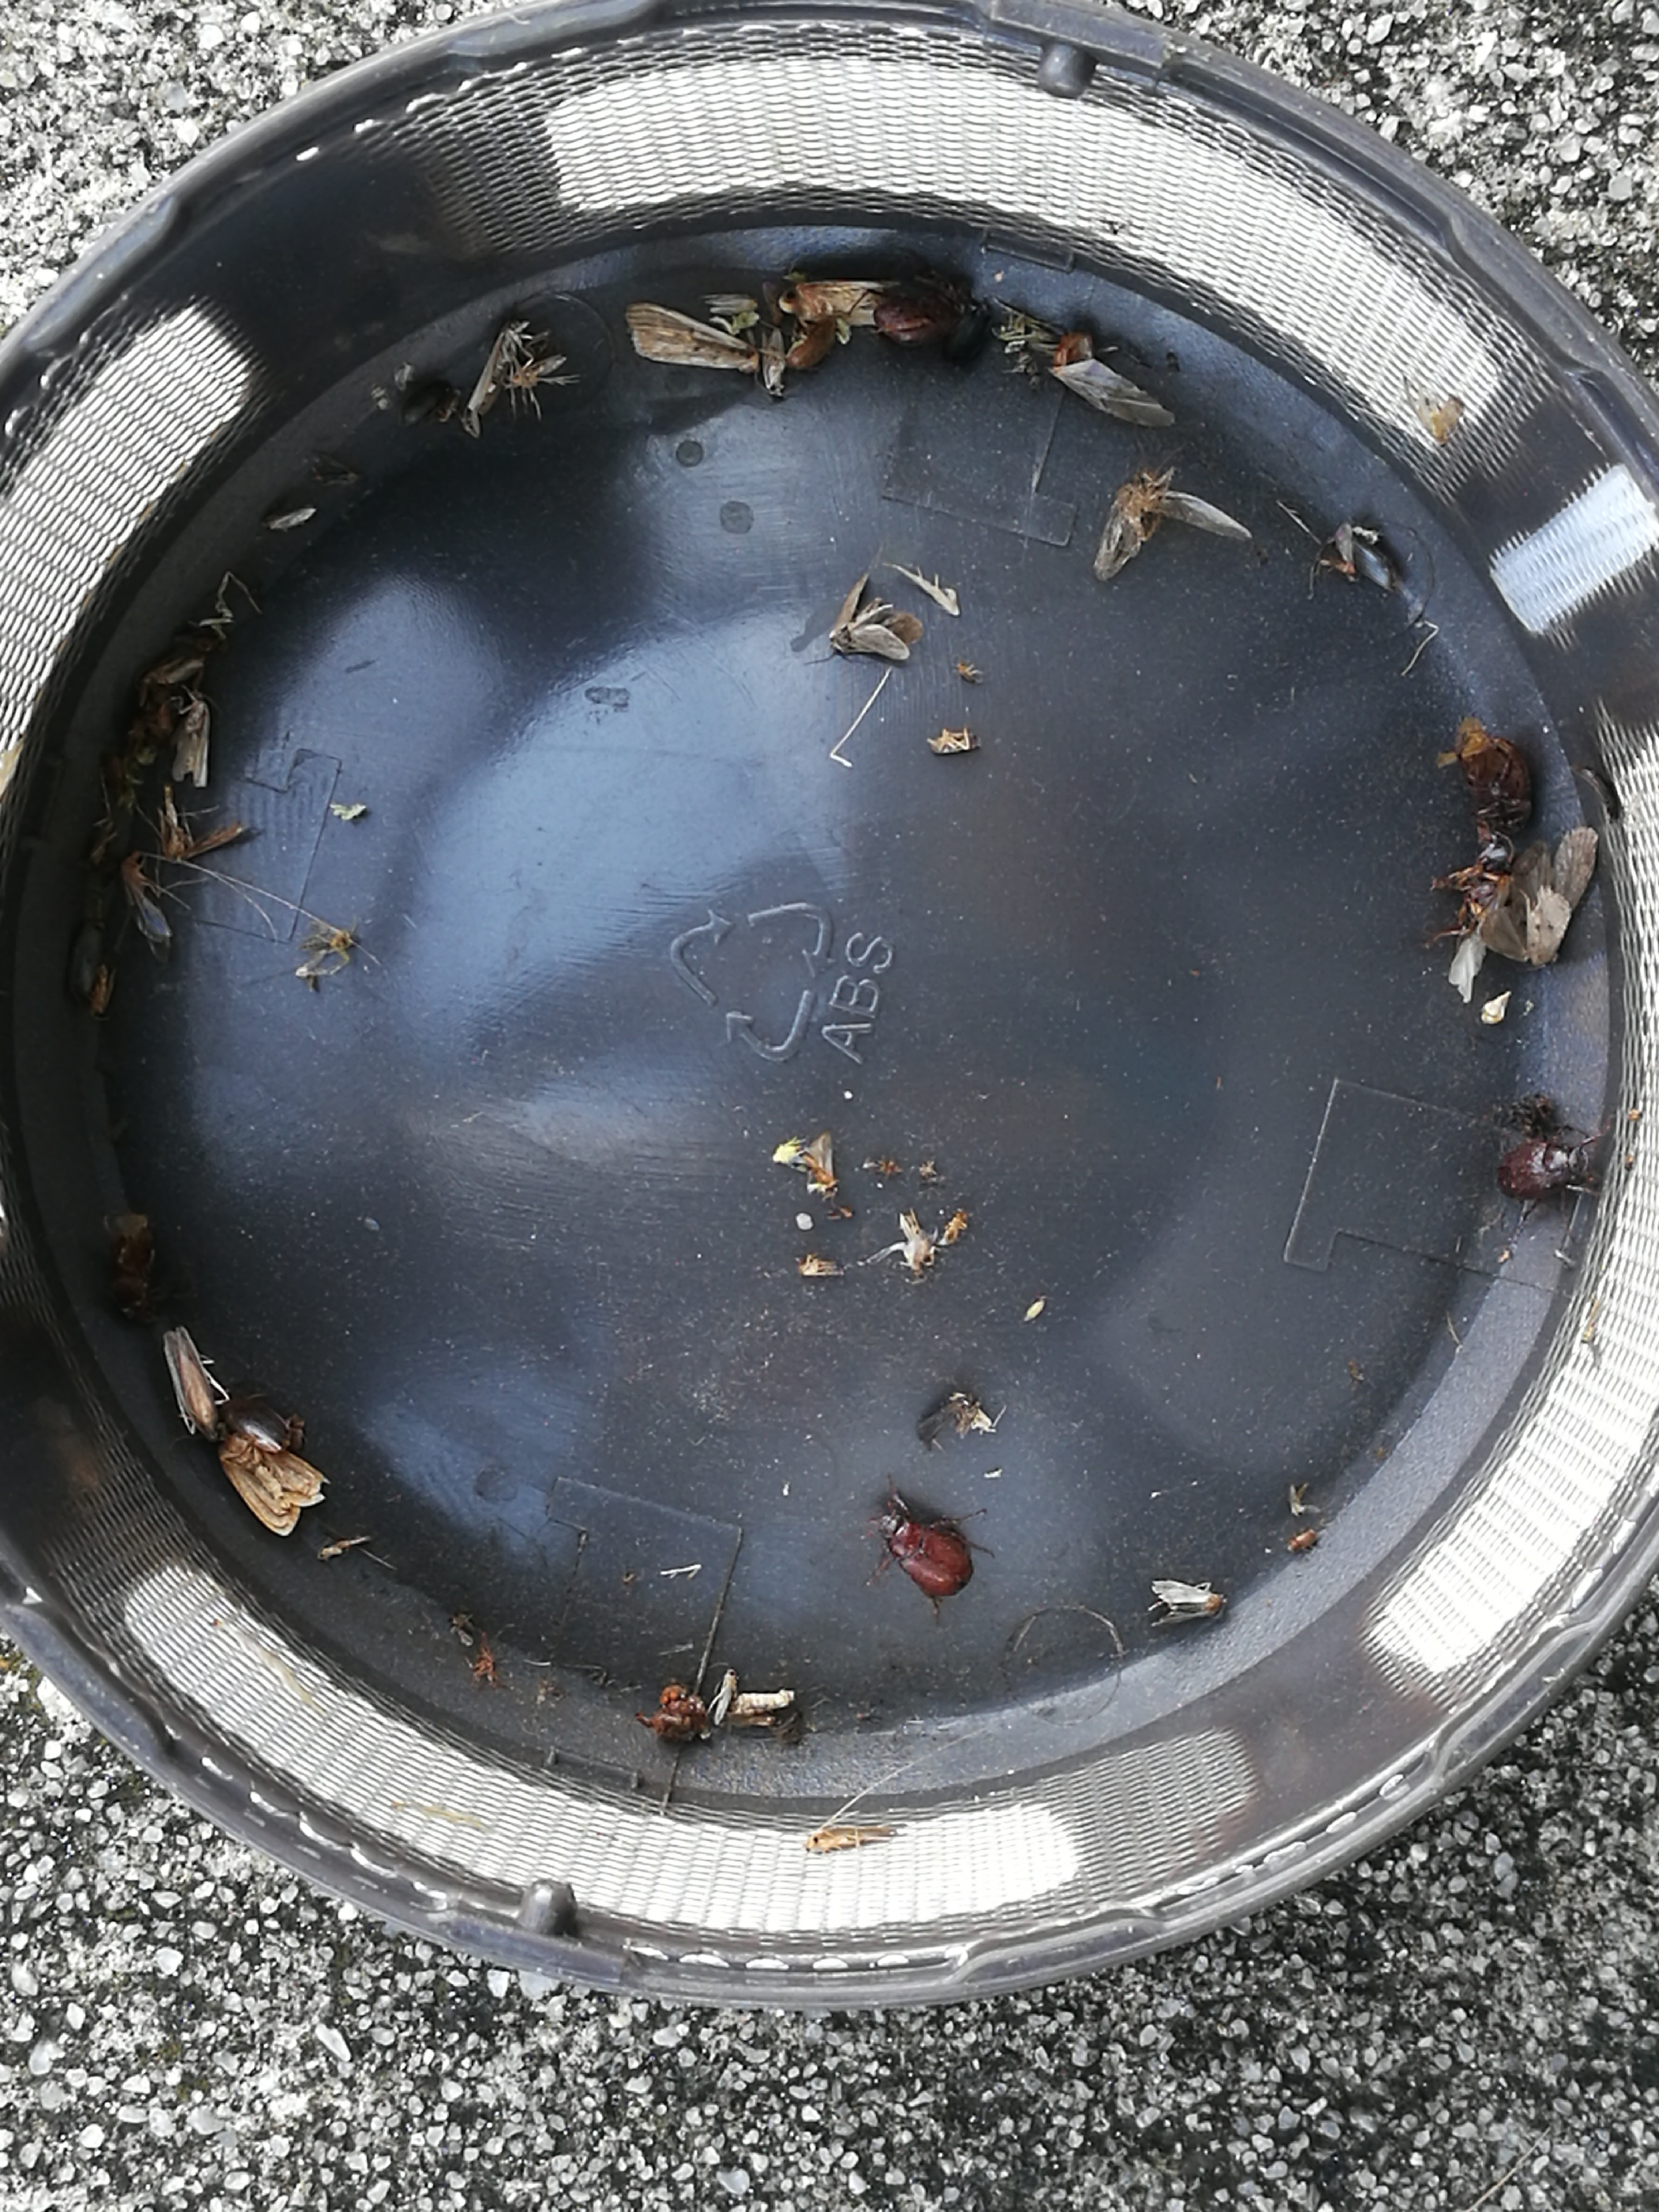beetle: (882, 1514, 974, 1597), (1460, 732, 1530, 834), (1499, 1144, 1586, 1197)
mosquito: (164, 1325, 218, 1442), (467, 319, 526, 416), (122, 850, 173, 961), (807, 1825, 892, 1851), (162, 789, 186, 862), (512, 357, 563, 385), (765, 329, 784, 394), (713, 1669, 735, 1719), (261, 509, 312, 531), (92, 965, 113, 1014)
moth: (1094, 469, 1251, 582), (1481, 829, 1598, 965), (220, 1432, 329, 1536), (627, 301, 758, 373), (1047, 359, 1178, 427), (833, 575, 924, 658), (779, 280, 877, 324), (173, 695, 211, 787), (1152, 1578, 1222, 1625)
